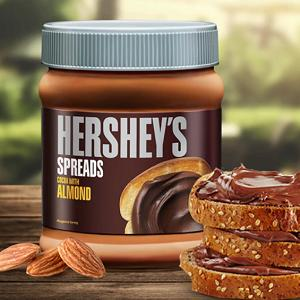Hershey-s: (35, 23, 225, 261)
